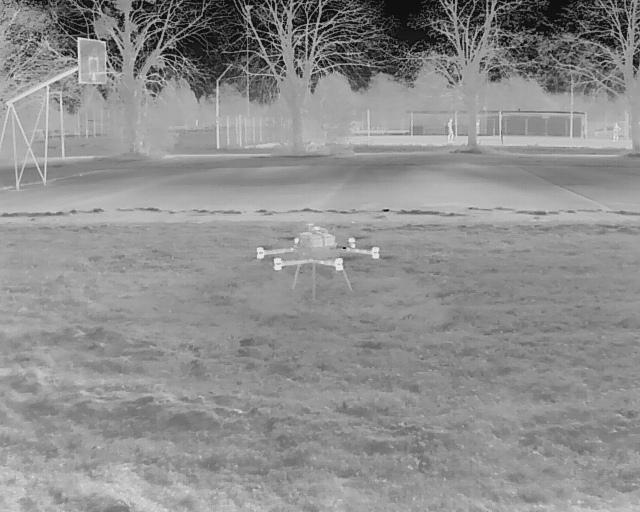drone: (237, 214, 398, 306)
